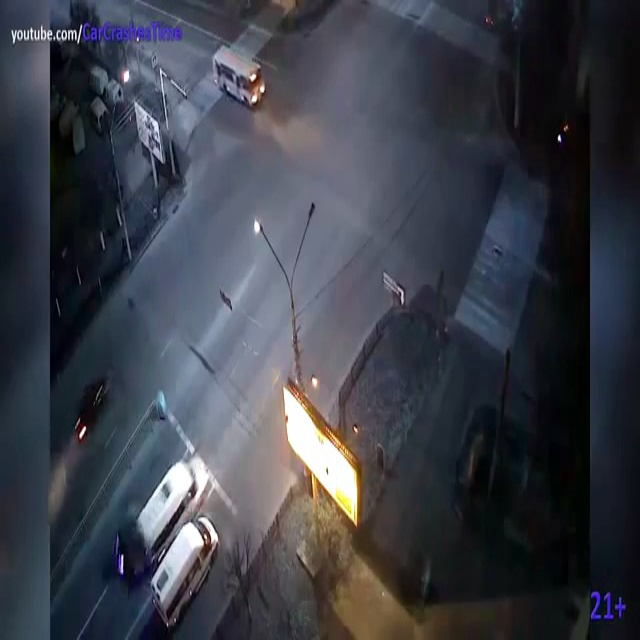acc: (92, 443, 213, 574)
